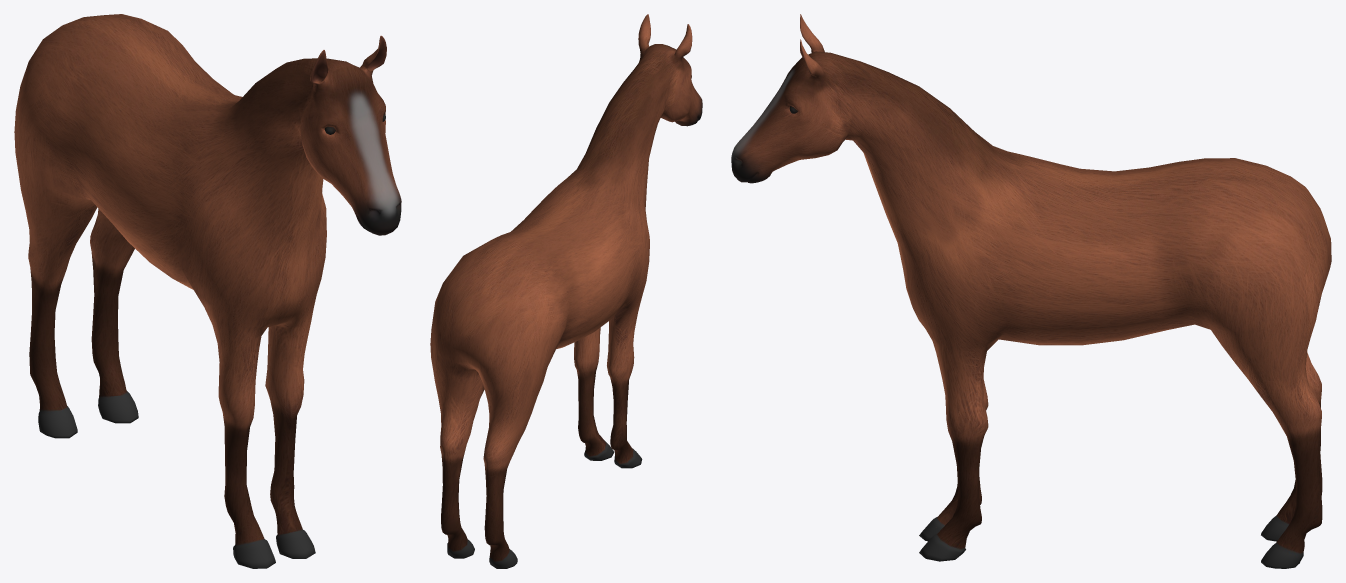
3 views of the same model, side by side, from view 1: azimuth 30°, elevation 25°; view 2: azimuth 150°, elevation 25°; view 3: azimuth 270°, elevation 25° (orthographic). The views are drawn at different scales.
Visible parts, largest first — view 1: horse_low; view 2: horse_low; view 3: horse_low.
Part boxes in pixels (x1,y1,x2,y2): horse_low: (14,14,401,568); horse_low: (430,14,702,568); horse_low: (731,14,1331,568).
Size of the model in its own units: 64.09 by 224 by 233.
Materials: 1 (1 with a texture image).
